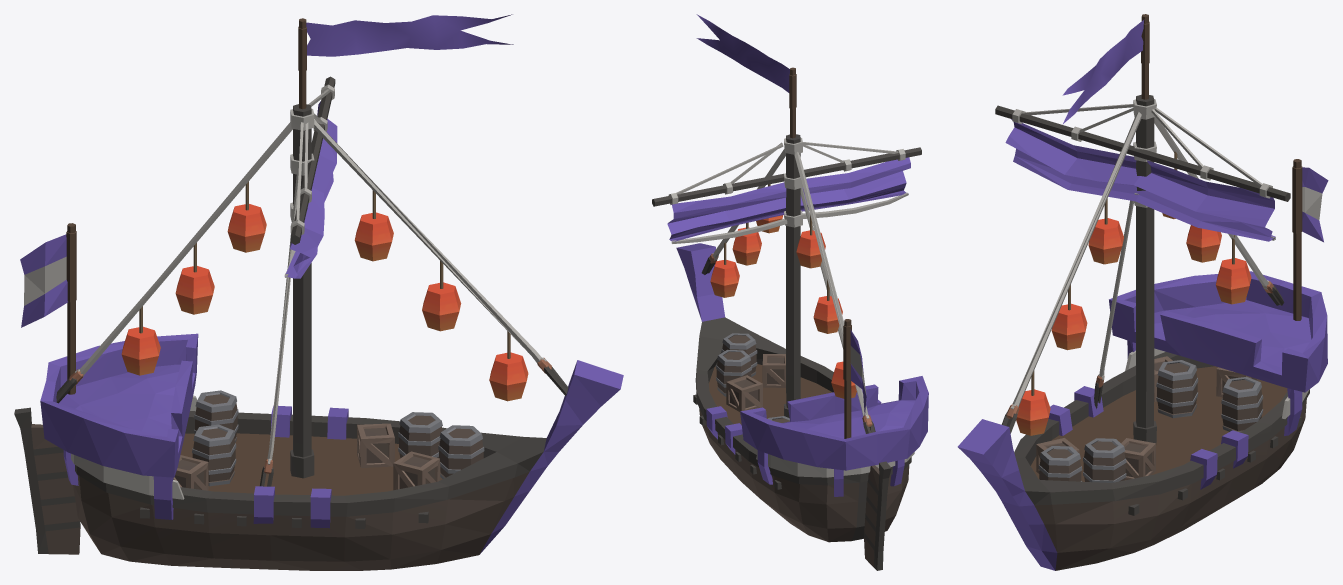
The model's file is nightmarketShip.fbx.
3 views of the same model, side by side, from view 1: azimuth 30°, elevation 25°; view 2: azimuth 150°, elevation 25°; view 3: azimuth 270°, elevation 25° (orthographic). The views are drawn at different scales.
Parts seen in each view (by area): view 1: nightmarketShip, nightmarketShipPennant; view 2: nightmarketShip, nightmarketShipPennant; view 3: nightmarketShip, nightmarketShipPennant.
Boxes of the visible parts, x1=… form: nightmarketShip: x1=14, y1=18, x2=623, y2=570; nightmarketShipPennant: x1=306, y1=14, x2=513, y2=56; nightmarketShip: x1=652, y1=67, x2=928, y2=570; nightmarketShipPennant: x1=696, y1=14, x2=789, y2=92; nightmarketShip: x1=957, y1=14, x2=1328, y2=570; nightmarketShipPennant: x1=1062, y1=19, x2=1144, y2=123.
Size of the model in its own units: 3.07 by 3.59 by 2.36.
2 materials, 2 textured.
